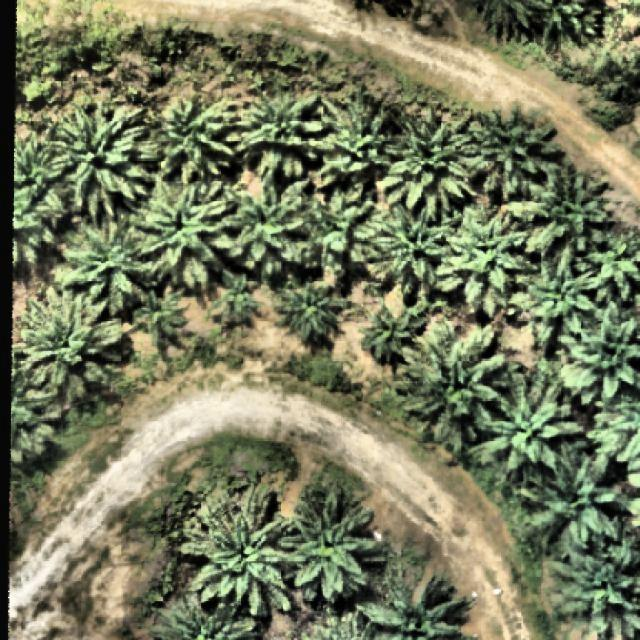Kelapa_Sawit: (178, 484, 306, 618), (400, 313, 506, 453), (464, 362, 586, 475), (45, 105, 161, 222), (276, 490, 382, 606), (383, 105, 485, 224), (432, 207, 540, 318), (21, 286, 121, 402), (132, 184, 238, 288), (518, 450, 626, 550), (466, 98, 566, 204), (224, 168, 320, 278), (57, 215, 152, 318), (371, 201, 462, 301), (514, 251, 600, 355), (228, 92, 334, 176), (316, 84, 401, 188), (526, 163, 617, 254), (151, 96, 240, 182), (303, 186, 385, 256), (356, 300, 429, 365), (277, 281, 348, 347), (133, 284, 192, 346), (208, 268, 264, 327)
